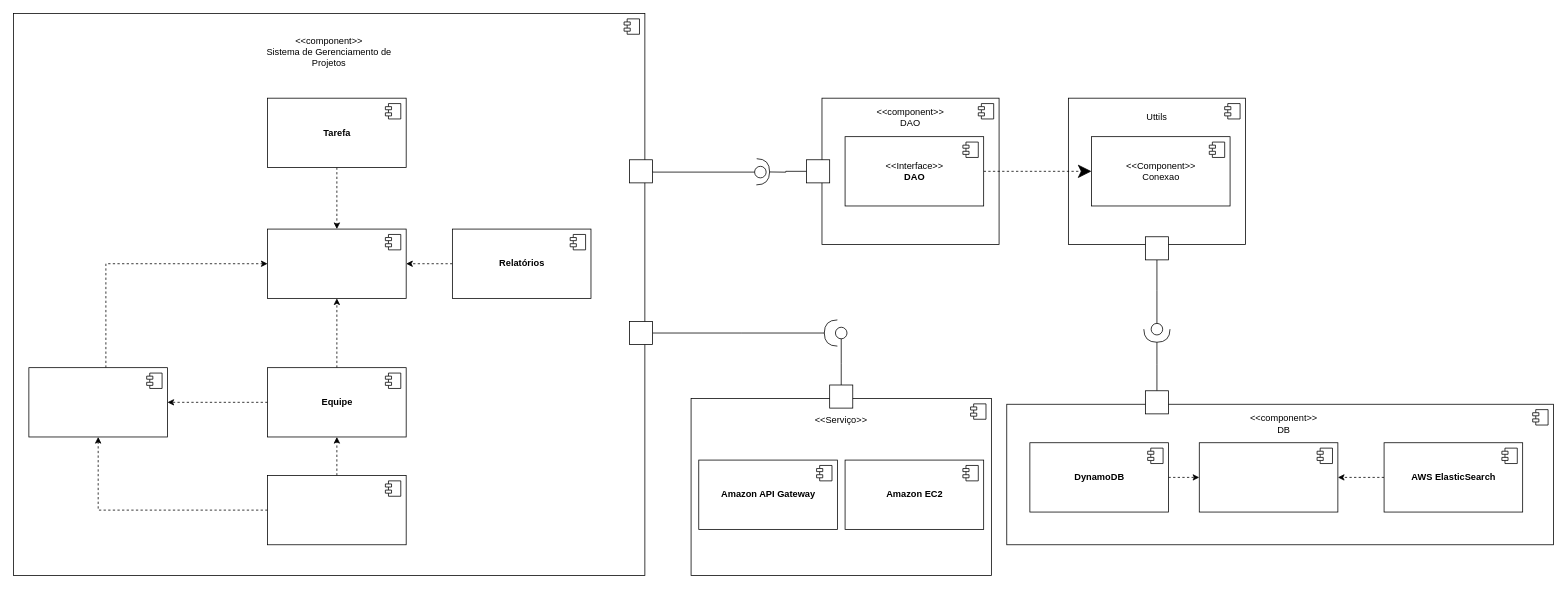
The diagram is 1567 pixels wide and 589 high, and some of its shapes have lost their labels. Here are the shapes that lost their labels. From the top down, the centre of each, then its label:
At pixel 336 263: "Projetos".
At pixel 97 402: "Gestor".
At pixel 1268 477: "Amazon AWS".
At pixel 336 510: "Associado".
